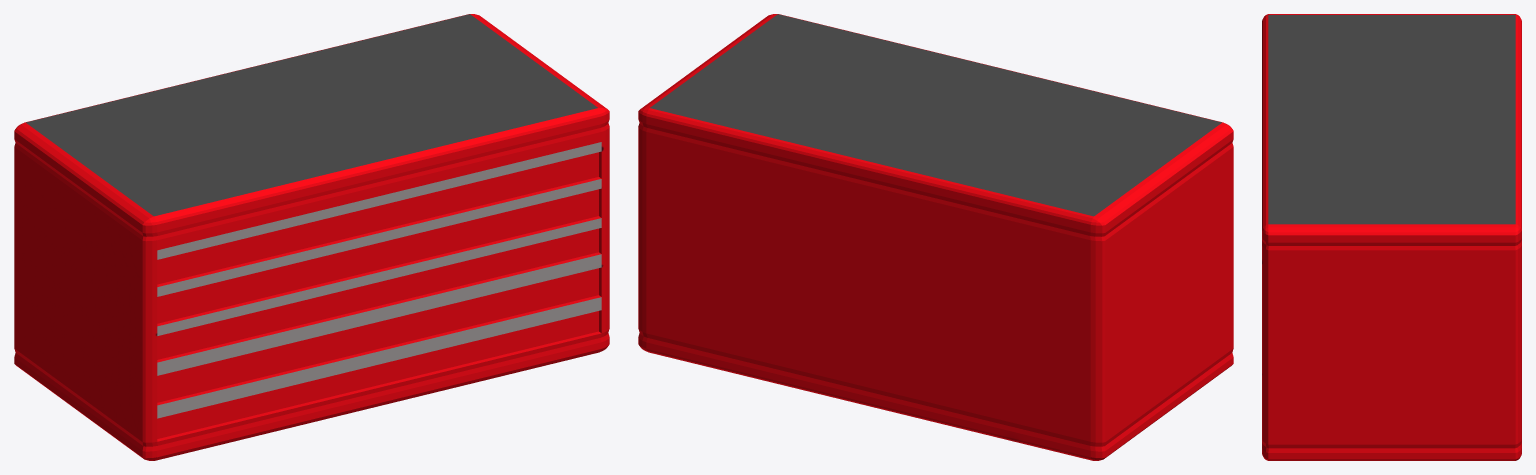
The model's file is mechanicbox.fbx.
The picture shows the model from 3 angles, left to right: view 1: azimuth 30°, elevation 25°; view 2: azimuth 150°, elevation 25°; view 3: azimuth 270°, elevation 25°; orthographic projection. The views are drawn at different scales.
Visible parts, largest first — view 1: Cube; view 2: Cube; view 3: Cube.
Boxes of the visible parts, x1,y1,x2,y2 form: Cube: (14, 14, 609, 460); Cube: (638, 14, 1233, 460); Cube: (1262, 14, 1521, 460).
Bounding box in the file's own units: 400 × 200 × 200.
